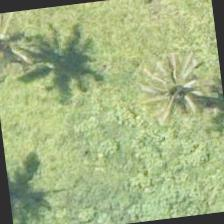Kelapa_Sawit: (137, 34, 223, 134), (0, 8, 49, 92)
